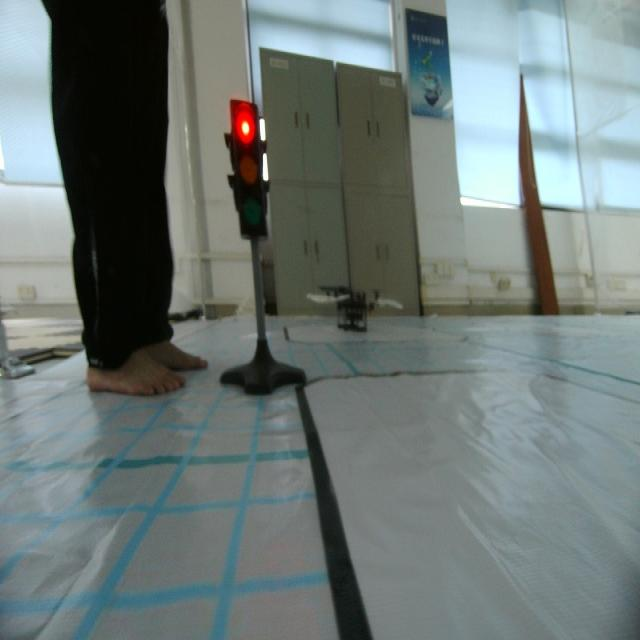red: (222, 90, 271, 240)
